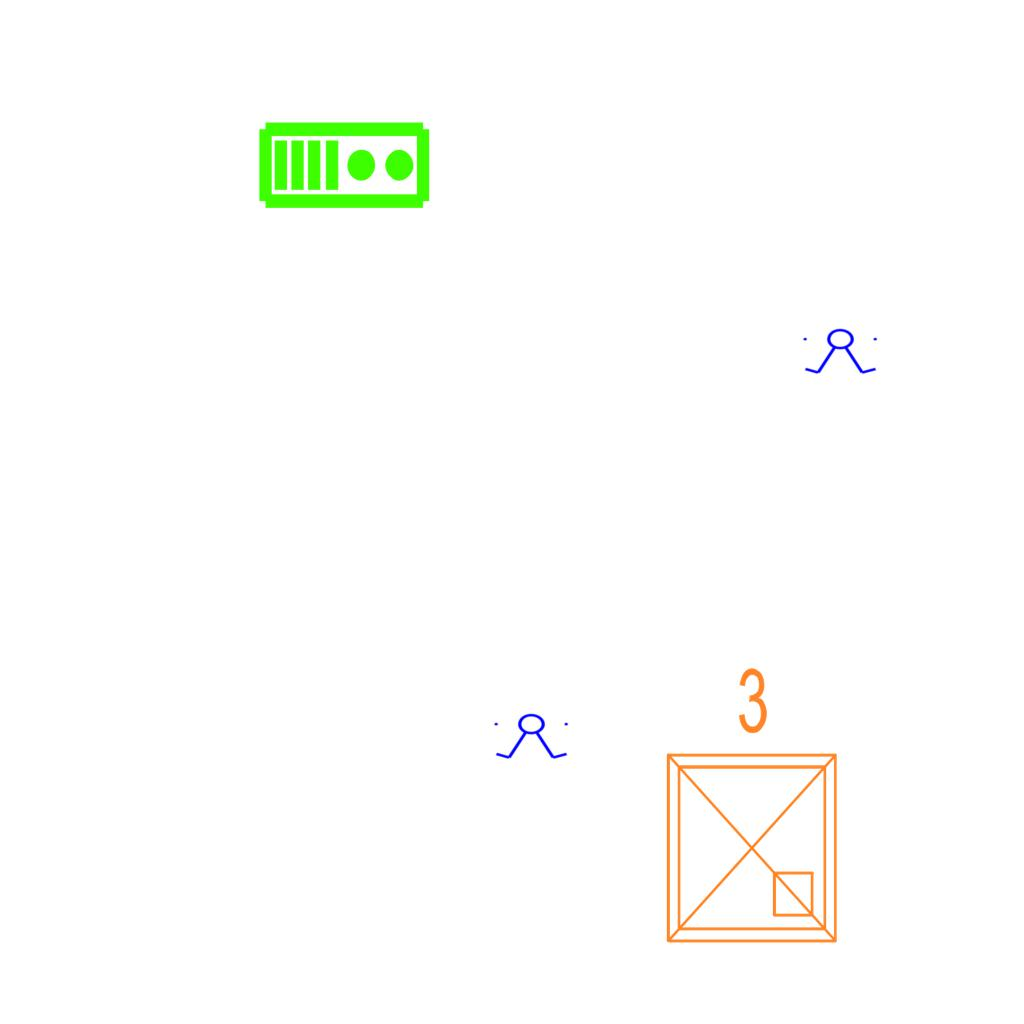Einbaudownlights_LED_Konferenzraeume: (644, 657, 852, 957)
Gegensprechanlage_mit_Video: (257, 116, 433, 211)
Serienschalter: (799, 328, 883, 376), (490, 713, 574, 761)
